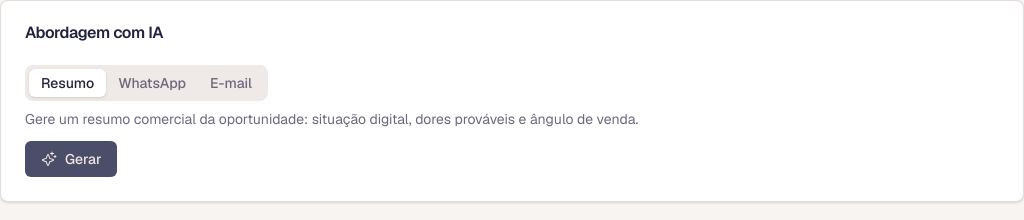
AiGenerationsCard › ignores failed generations when building the draft
Click the tab "WhatsApp" at {"x": 152, "y": 83}, box [106,69,198,97]
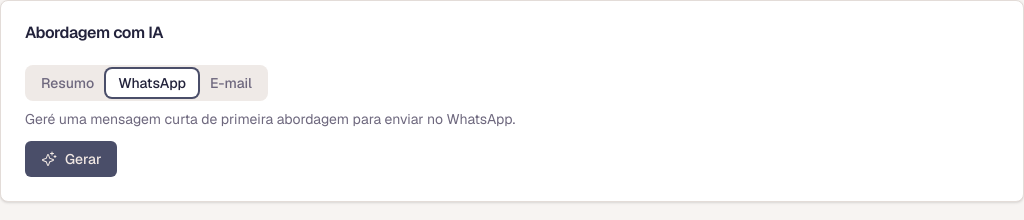
Check: the button "Gerar" is shown, box [25,141,117,177]
Check: the text "mensagem curta de primeira abordagem" is shown, box [25,110,515,128]
